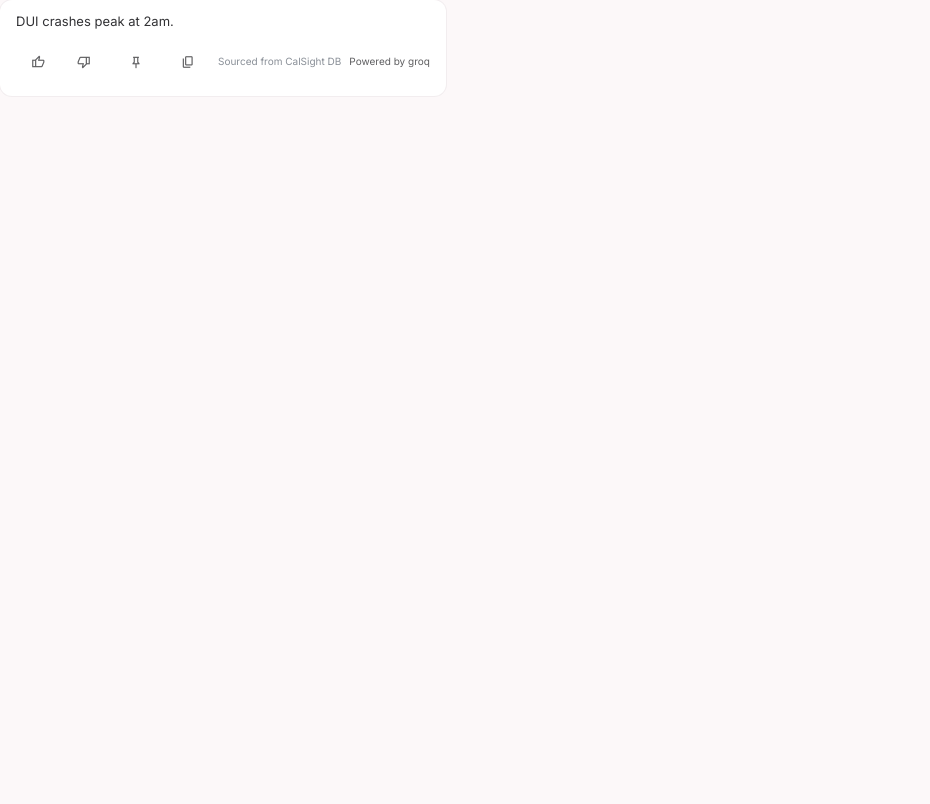
ChatMessage copy button › copies the answer text and confirms with a toast
Step 1. Click the button named "Copy answer" → [188, 62], box [166, 40, 210, 84]
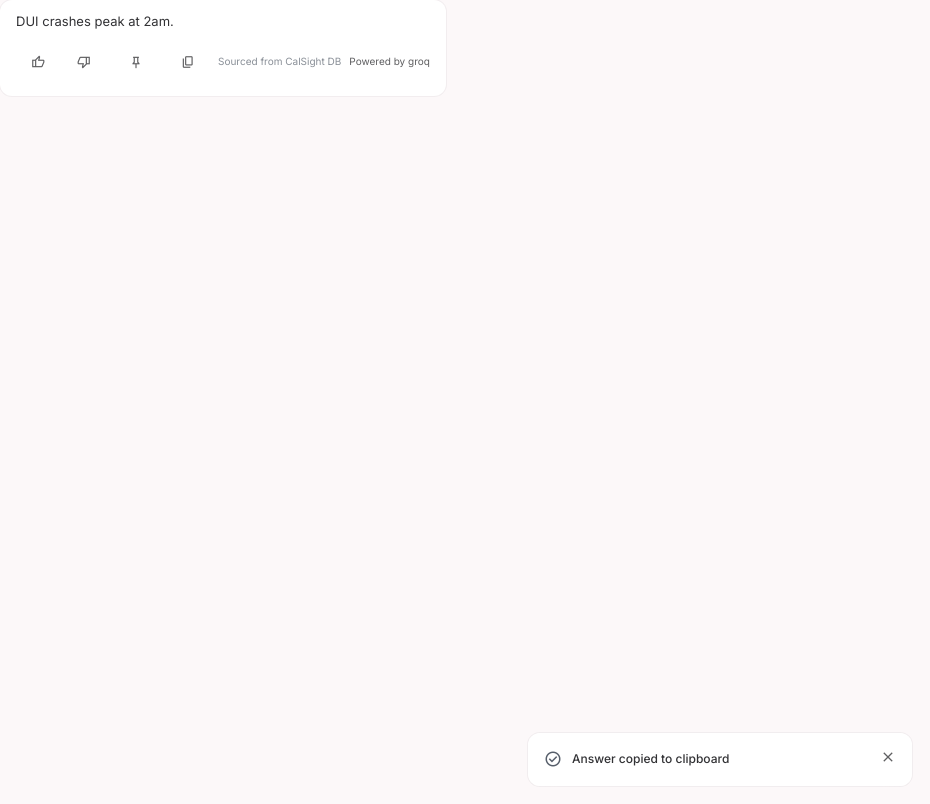
Now the text "Answer copied to clipboard" is shown, box [572, 751, 729, 766]
